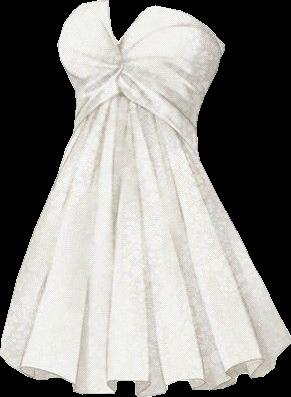Bodice: (57, 0, 224, 151)
Neckline: (78, 0, 228, 50)
Skirt: (0, 96, 290, 396)
Waistline: (72, 93, 200, 153)
